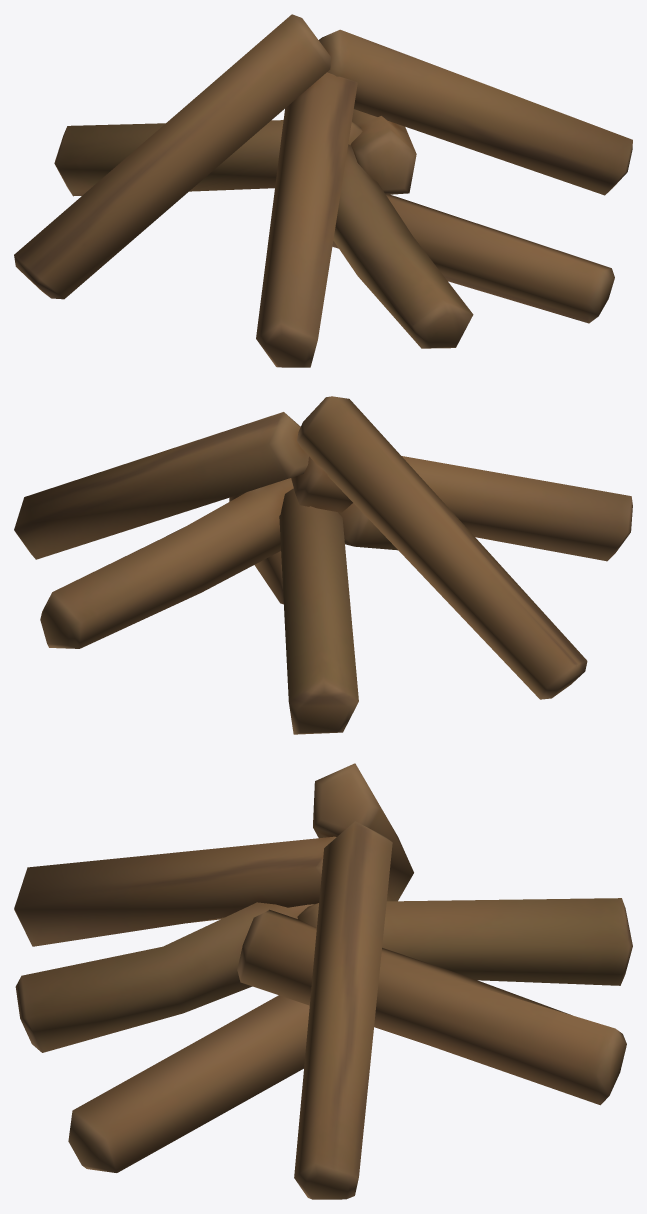
File: CampFire.fbx
The picture shows the model from 3 angles, top to bottom: view 1: azimuth 30°, elevation 25°; view 2: azimuth 150°, elevation 25°; view 3: azimuth 270°, elevation 25°; orthographic projection. The views are drawn at different scales.
Visible parts, largest first — view 1: Cylinder.034; view 2: Cylinder.034; view 3: Cylinder.034.
Boxes of the visible parts, x1,y1,x2,y2 form: Cylinder.034: [14, 14, 632, 367]; Cylinder.034: [14, 396, 632, 734]; Cylinder.034: [14, 763, 632, 1199].
Bounding box in the file's own units: 91.26 × 39.95 × 73.33.
Materials: 1 (1 with a texture image).
